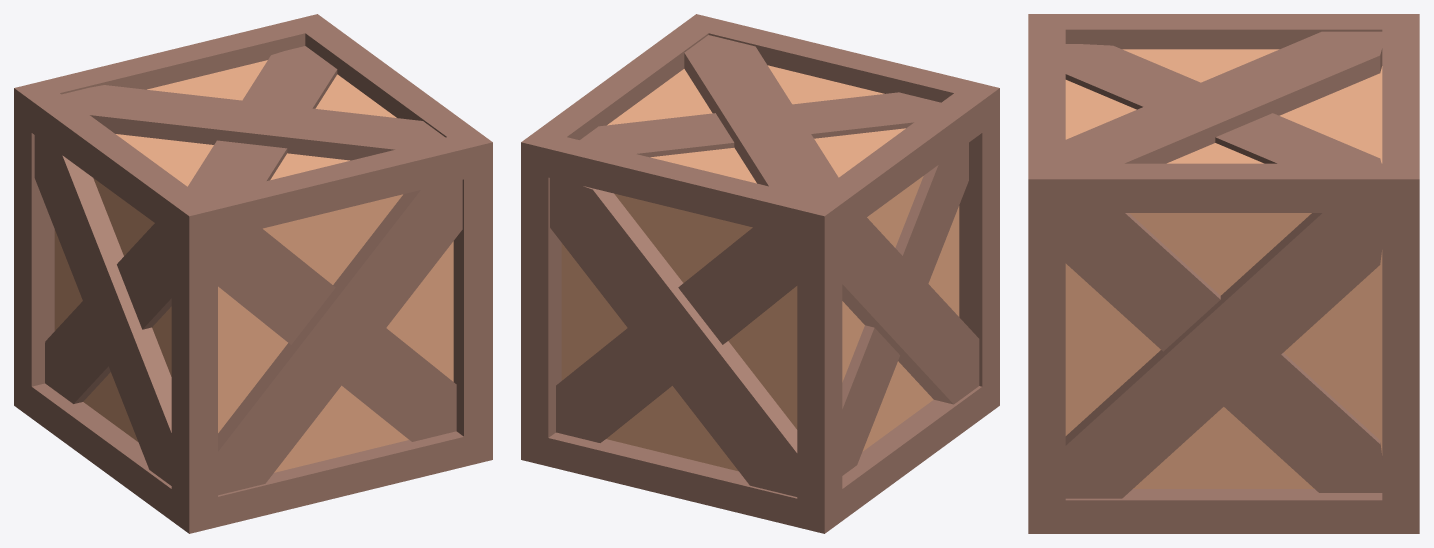
The picture shows the model from 3 angles, left to right: view 1: azimuth 30°, elevation 25°; view 2: azimuth 150°, elevation 25°; view 3: azimuth 270°, elevation 25°; orthographic projection. The views are drawn at different scales.
Visible parts, largest first — view 1: Cube.006; view 2: Cube.006; view 3: Cube.006.
Part boxes in pixels (x1,y1,x2,y2): Cube.006: [14, 14, 492, 533]; Cube.006: [521, 14, 999, 533]; Cube.006: [1028, 14, 1419, 533].
Size of the model in its own units: 121 by 121 by 121.
